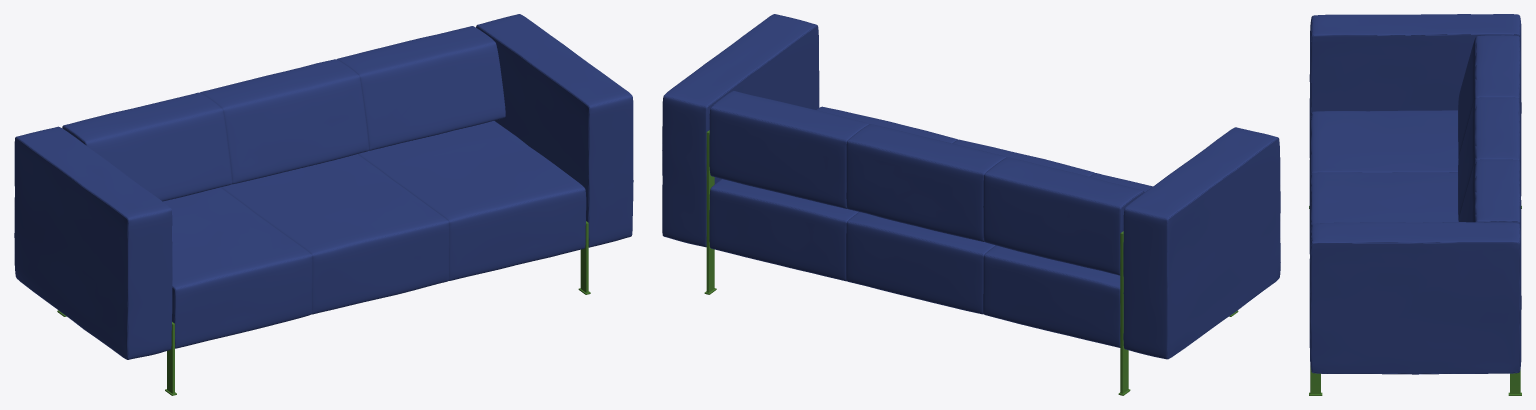
The model's file is SM_Ledercouch.fbx.
The picture shows the model from 3 angles, left to right: view 1: azimuth 30°, elevation 25°; view 2: azimuth 150°, elevation 25°; view 3: azimuth 270°, elevation 25°; orthographic projection. The views are drawn at different scales.
Visible parts, largest first — view 1: SM_Ledercouch; view 2: SM_Ledercouch; view 3: SM_Ledercouch.
Boxes of the visible parts, x1,y1,x2,y2 form: SM_Ledercouch: (14, 14, 633, 395); SM_Ledercouch: (662, 14, 1280, 395); SM_Ledercouch: (1309, 14, 1521, 395).
Size of the model in its own units: 205 by 72.71 by 80.42.
